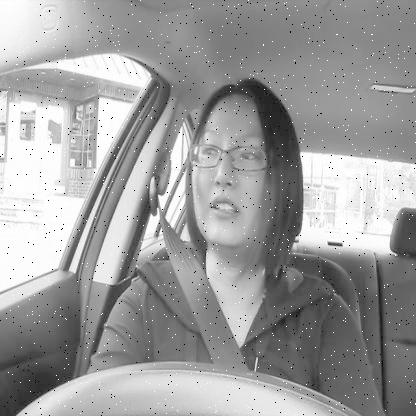seatbelt: (138, 77, 316, 366)
